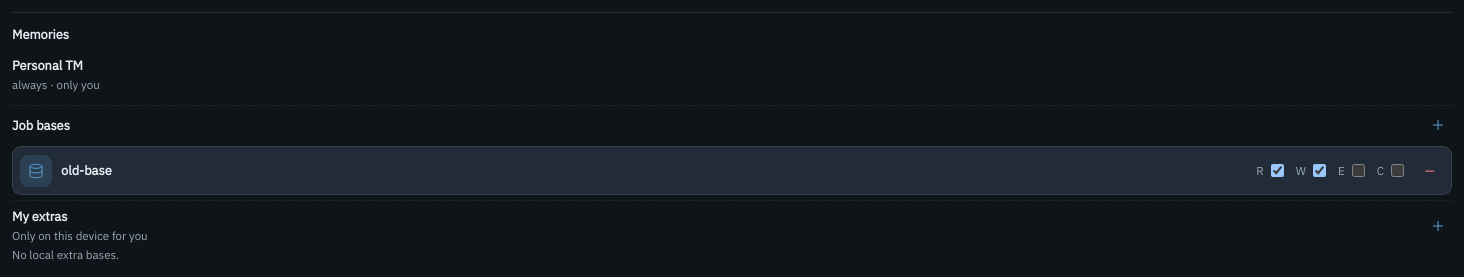
JobMemoriesPanel › ignores a stale mutation response after the job changes
The image size is (1464, 277).
Click the checkbox with test id "job-tm-shared-read".
click(1277, 171)  # box [1271,164,1284,177]
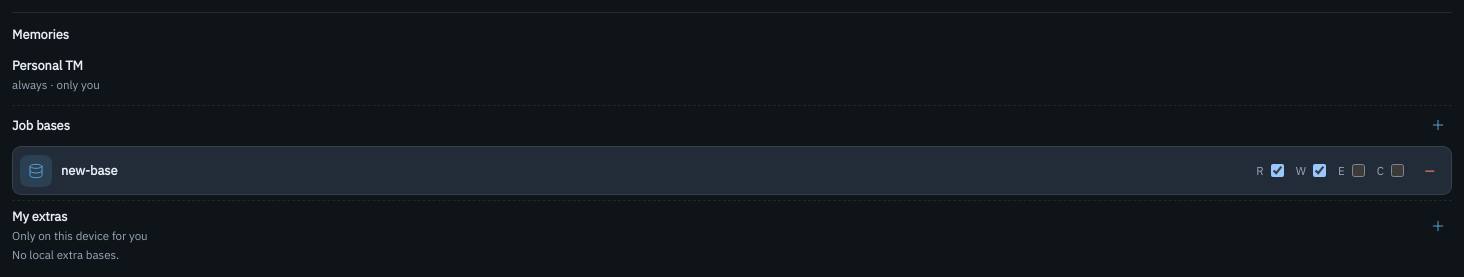
Check: the text "new-base" is shown, box [61,162,118,179]
Check: the text "old-base" is gone
